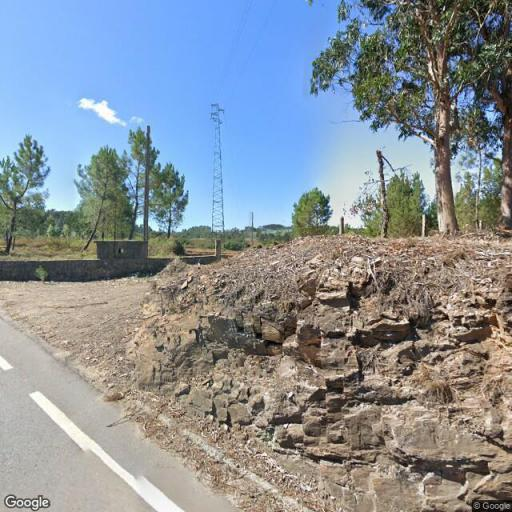ss_4: (209, 102, 228, 232)
